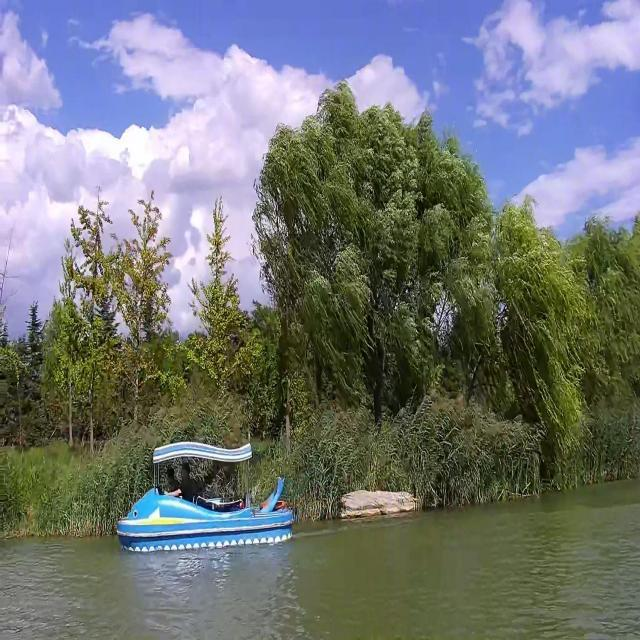CIV_Ship: (114, 441, 292, 552)
